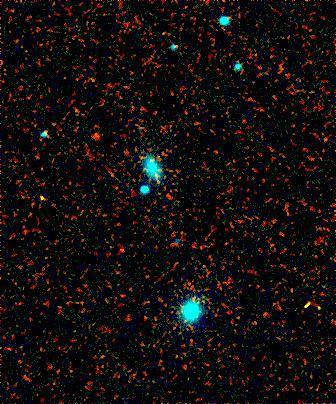star: (24, 181, 54, 211)
